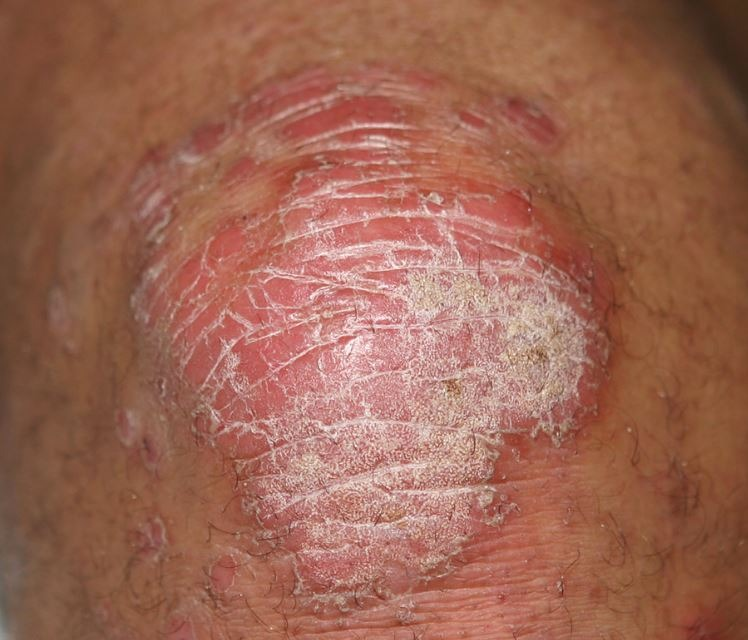Psoriasis: (127, 52, 620, 588)
